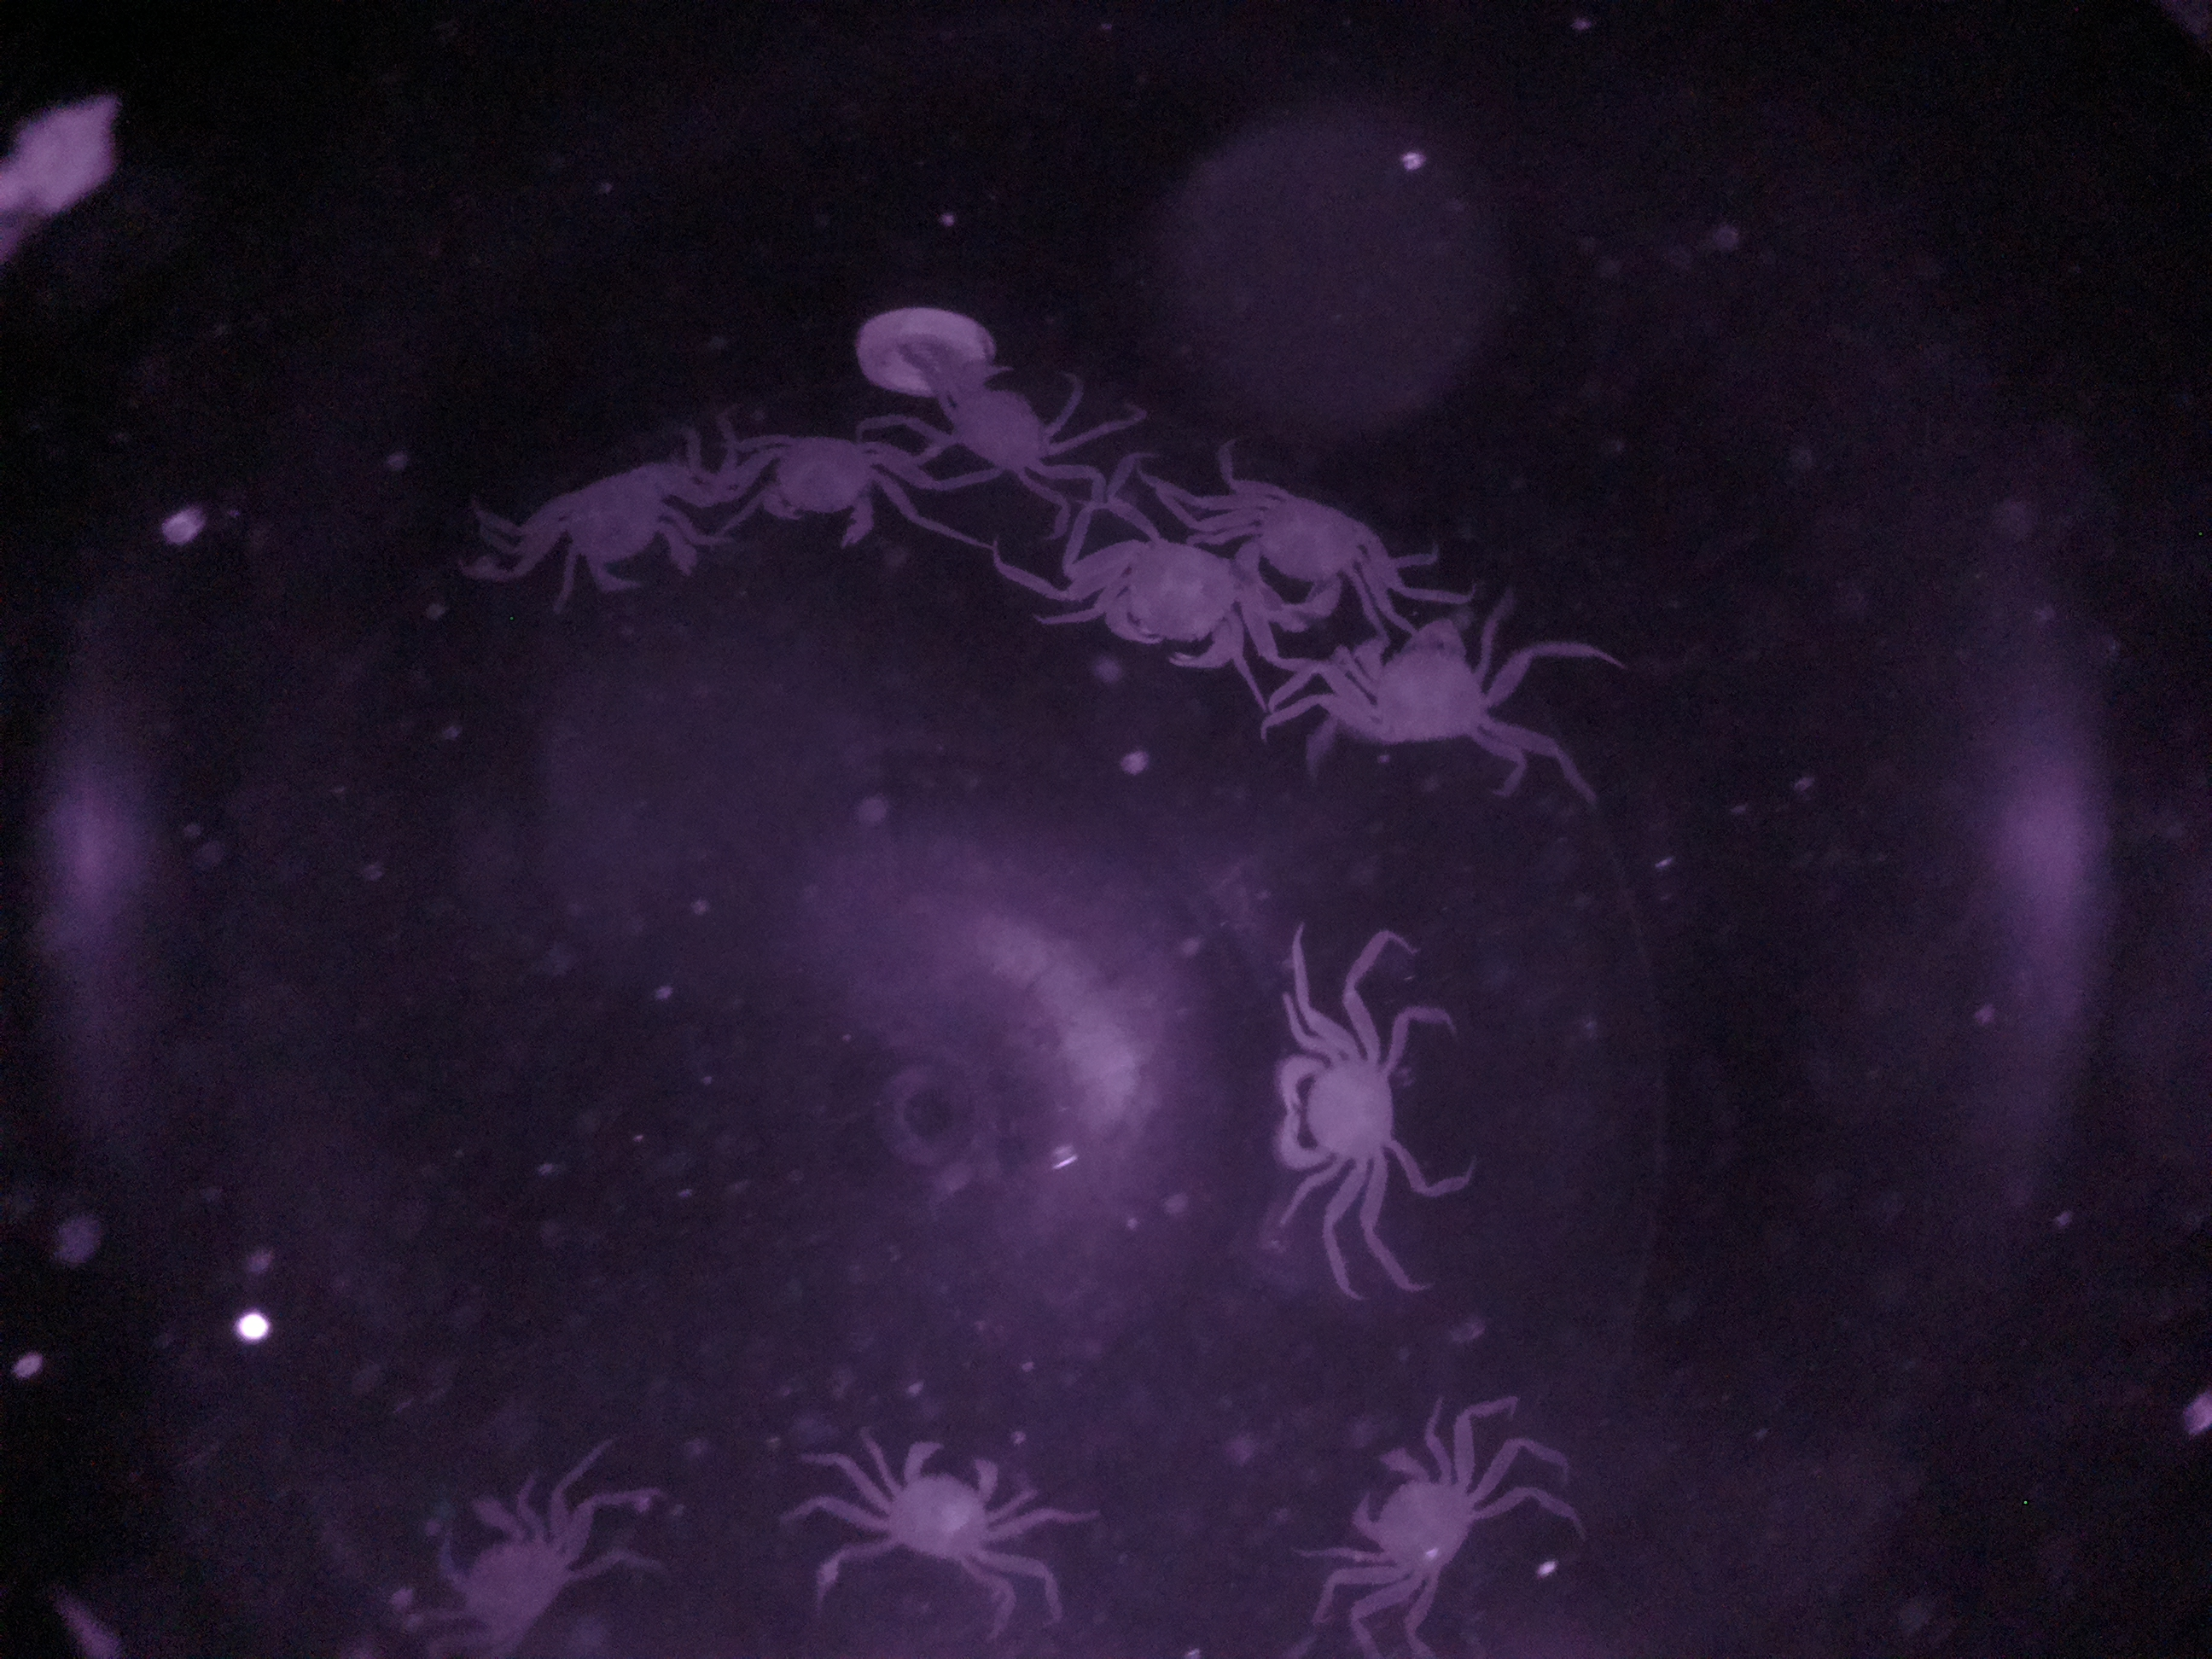Crab: (1247, 993, 1446, 1229), (704, 399, 932, 580), (1327, 1424, 1522, 1622), (1075, 518, 1273, 685), (1305, 608, 1531, 755), (549, 448, 726, 631), (852, 1431, 1024, 1586)
